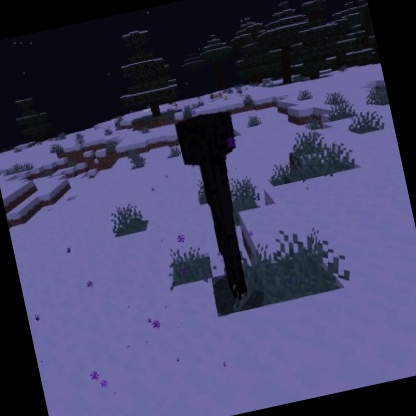enderman: (171, 105, 272, 307)
